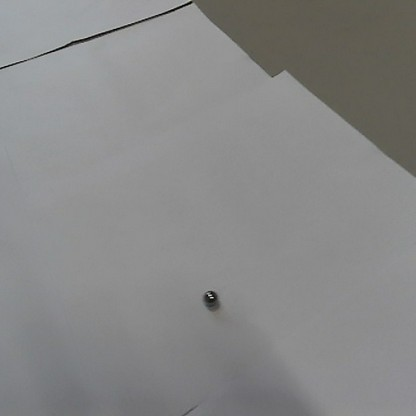ironball: (201, 286, 219, 308)
